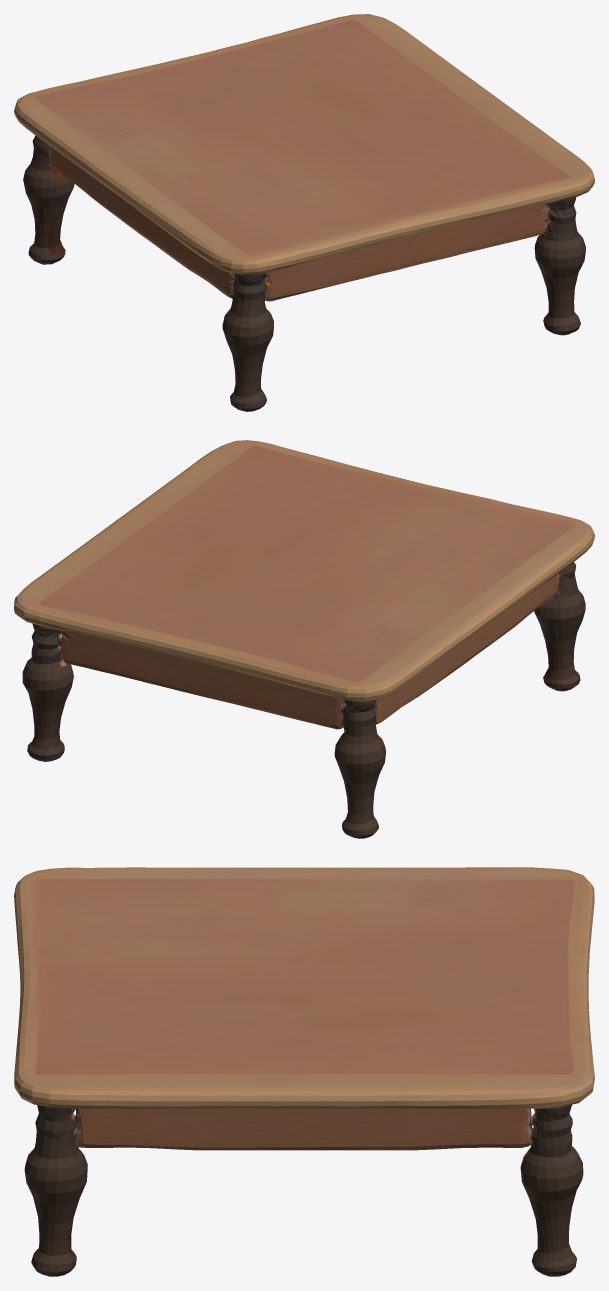
Rendered from table3.glb.
3 renders of one model, top to bottom at view 1: azimuth 30°, elevation 25°; view 2: azimuth 150°, elevation 25°; view 3: azimuth 270°, elevation 25°, orthographic. The views are drawn at different scales.
Visible parts, largest first — view 1: tripo_node_dec8354d-0594-444d-8df7-4e97ccba2548; view 2: tripo_node_dec8354d-0594-444d-8df7-4e97ccba2548; view 3: tripo_node_dec8354d-0594-444d-8df7-4e97ccba2548.
Part boxes in pixels (<box>): tripo_node_dec8354d-0594-444d-8df7-4e97ccba2548: <box>14,14,594,411</box>; tripo_node_dec8354d-0594-444d-8df7-4e97ccba2548: <box>14,440,594,838</box>; tripo_node_dec8354d-0594-444d-8df7-4e97ccba2548: <box>14,867,594,1276</box>.
Bounding box in the file's own units: 0.9343 × 0.3786 × 0.9994.
Materials: 1 (1 with a texture image).
